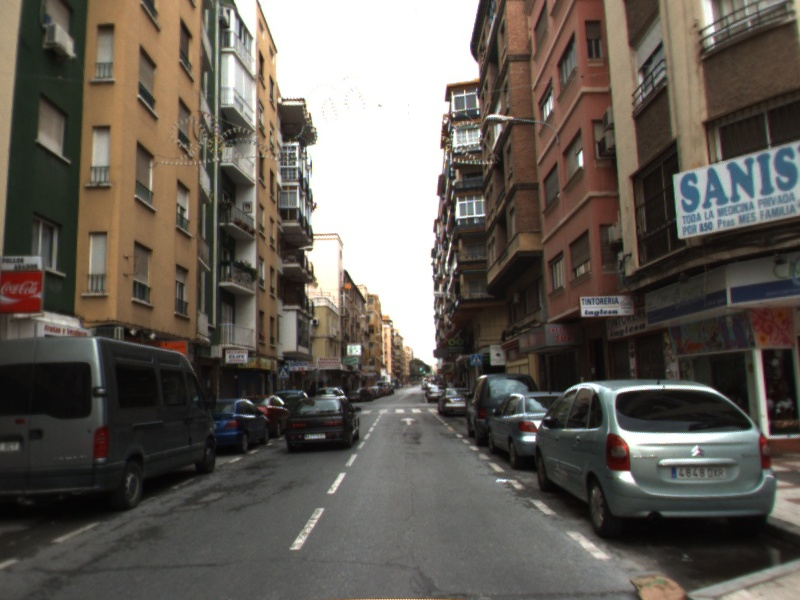STRAIGHT: (399, 415, 418, 427)
